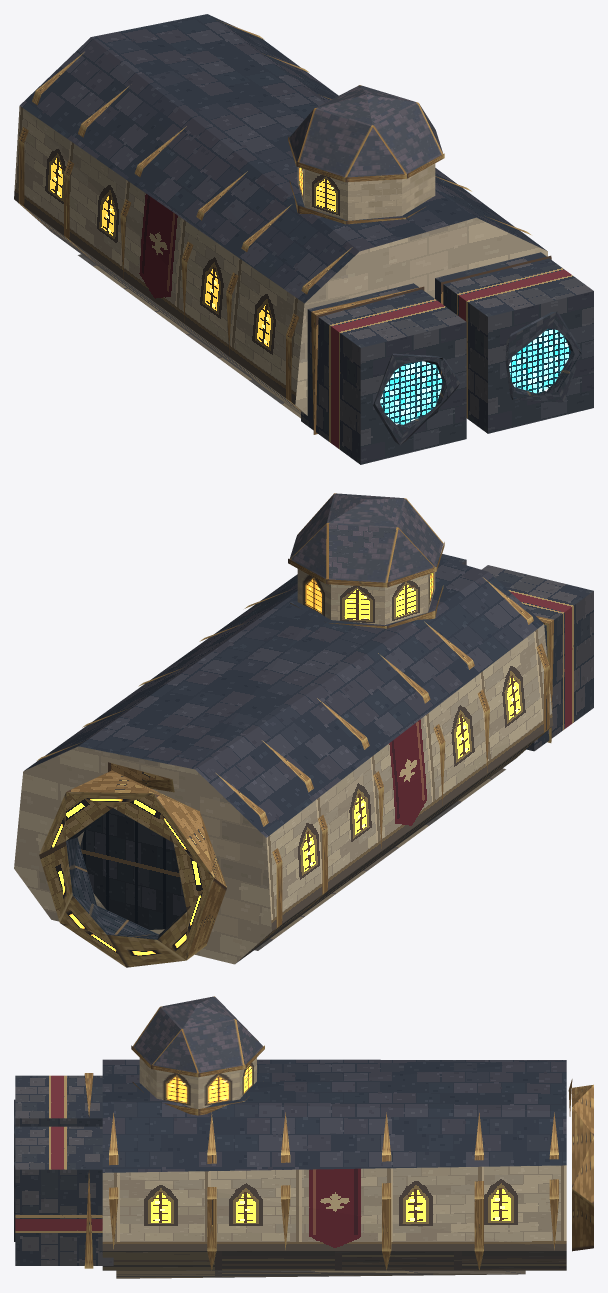
The model's file is pilgrim_lod1.glb.
3 renders of one model, top to bottom at view 1: azimuth 30°, elevation 25°; view 2: azimuth 150°, elevation 25°; view 3: azimuth 270°, elevation 25°, orthographic. The views are drawn at different scales.
Visible parts, largest first — view 1: Pilgrim_LOD1; view 2: Pilgrim_LOD1; view 3: Pilgrim_LOD1.
Boxes of the visible parts, box(x1,y1,x2,y2) form: Pilgrim_LOD1: box(14, 14, 593, 464); Pilgrim_LOD1: box(14, 493, 593, 967); Pilgrim_LOD1: box(14, 996, 593, 1278).
Size of the model in its own units: 9.01 by 9.75 by 21.25.
1 material, 1 textured.
